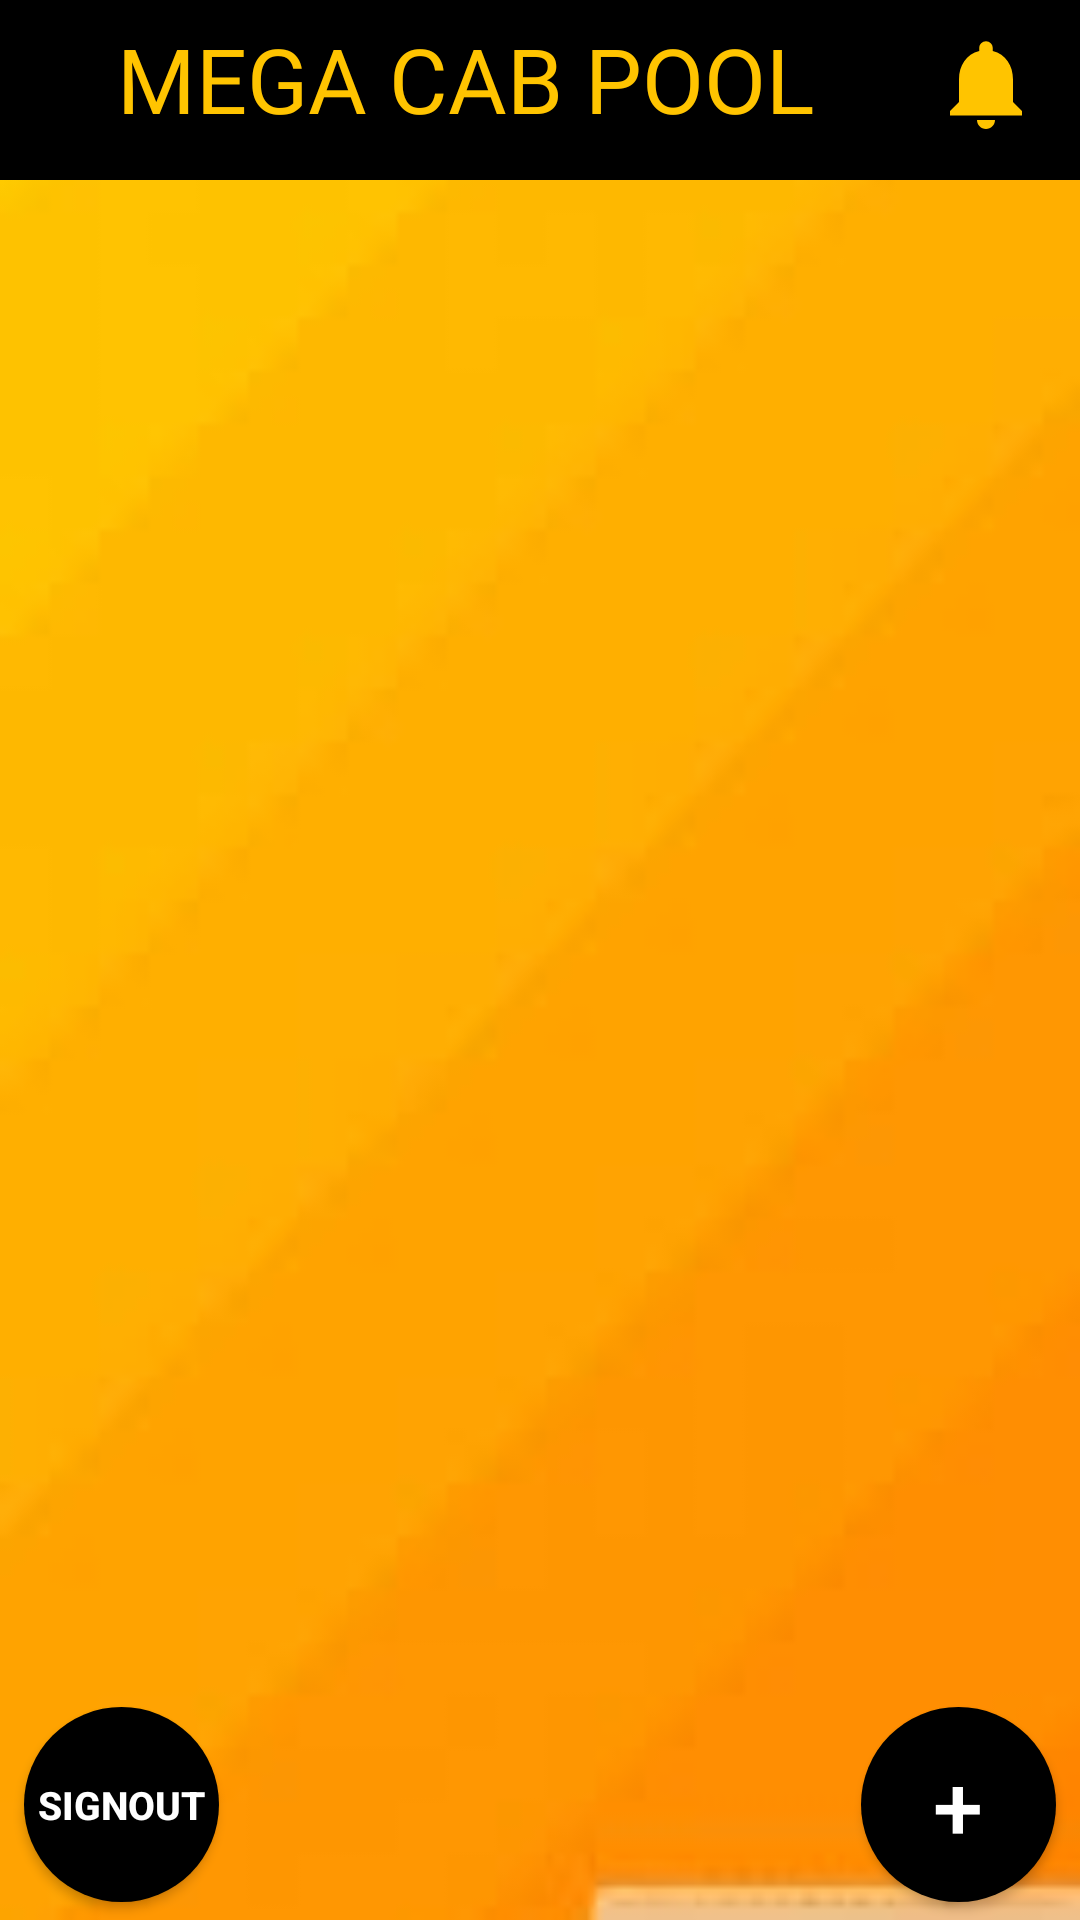

Screen size 1080px×1920px. Icon name, then its box in pixels as (x1, y1, x2, y2):
notifications: (950, 41, 1022, 129)
